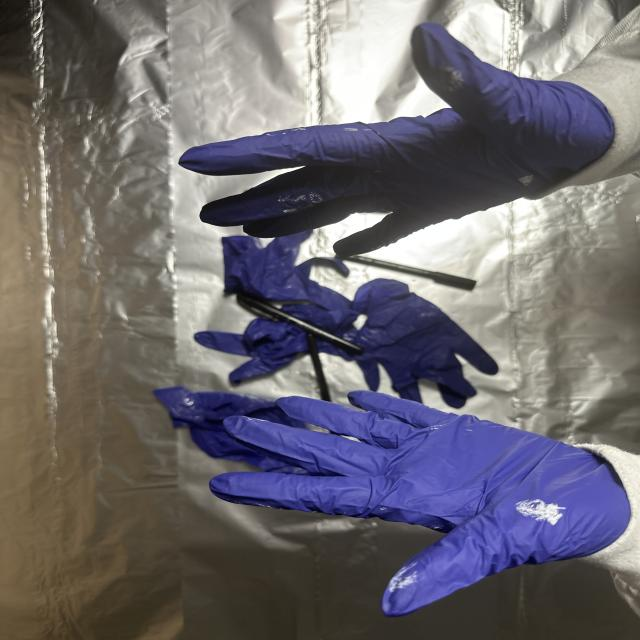gloves_contaminated: (180, 24, 614, 255), (210, 392, 629, 614)
